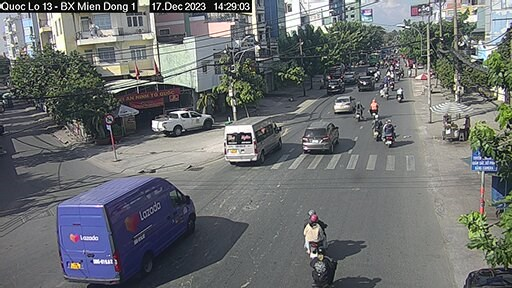car: (56, 175, 196, 283), (223, 116, 286, 165), (151, 109, 215, 134), (302, 121, 342, 153), (325, 76, 345, 93), (355, 77, 376, 92), (334, 96, 353, 112), (342, 70, 358, 86)
motorbike: (306, 211, 330, 258), (381, 122, 400, 149), (369, 115, 384, 139), (368, 98, 381, 116)
